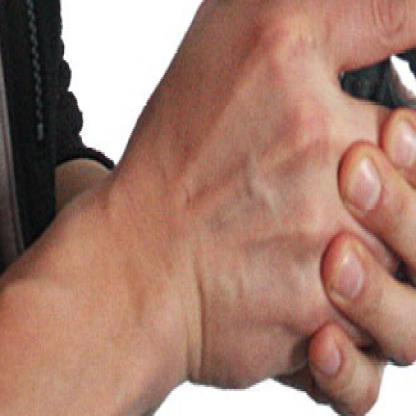gun: (214, 0, 414, 129)
